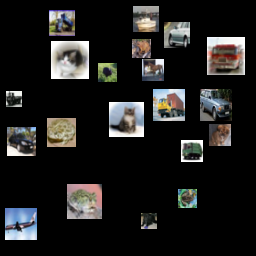airplane: (5, 208, 37, 240)
automobile: (200, 89, 232, 121), (7, 127, 36, 156), (164, 22, 190, 48)
bird: (98, 63, 117, 82)
cat: (51, 41, 89, 79), (109, 102, 144, 137)
dog: (209, 124, 231, 146), (141, 213, 157, 229)
frog: (67, 184, 102, 219), (47, 118, 76, 147), (178, 189, 197, 208), (132, 39, 151, 58)
ship: (133, 6, 159, 32)
